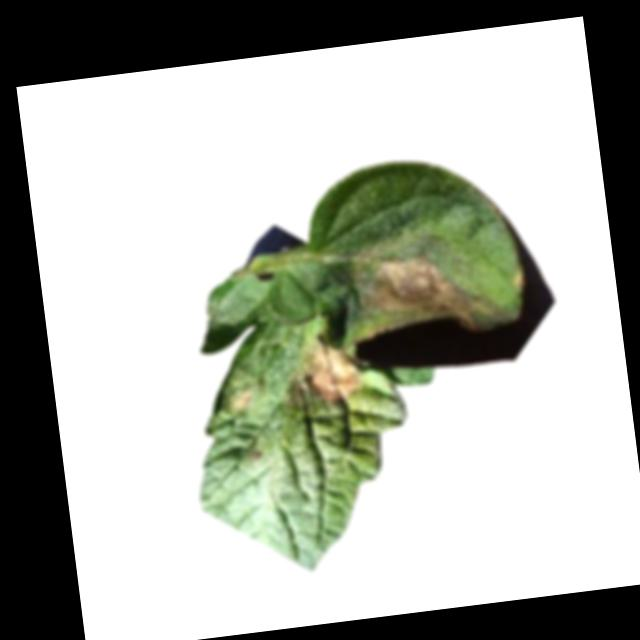Late_blight: (355, 237, 511, 343), (281, 325, 366, 414), (225, 383, 254, 414)
